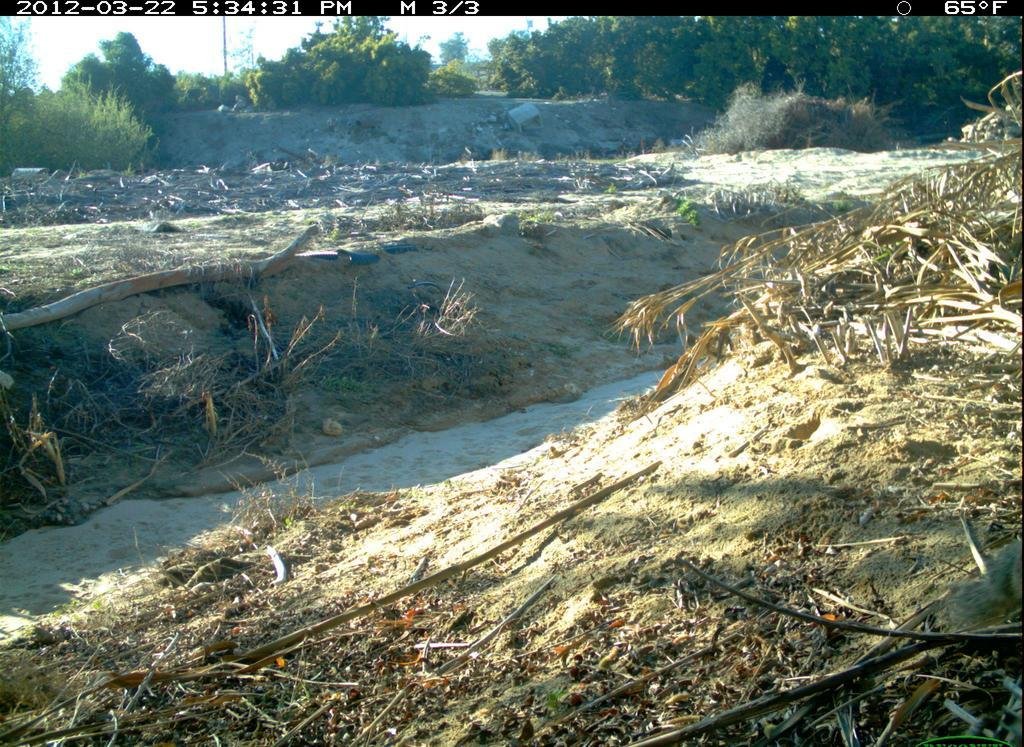squirrel: (941, 534, 1023, 642)
